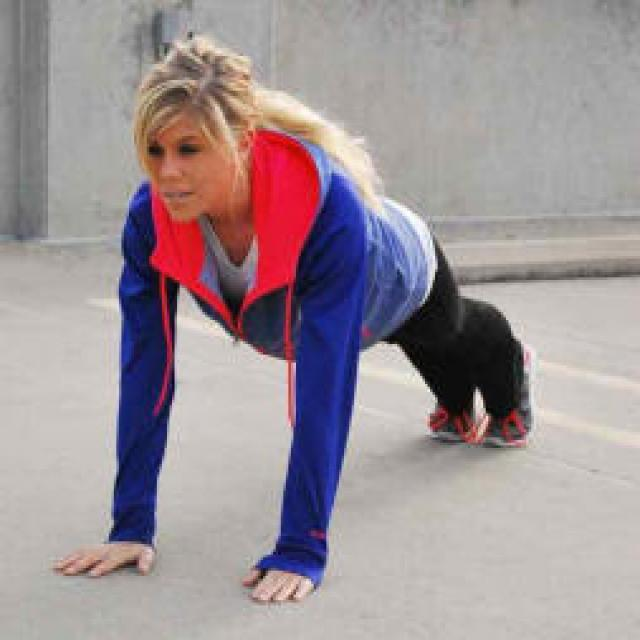yoga-pose plank: (63, 38, 540, 603)
